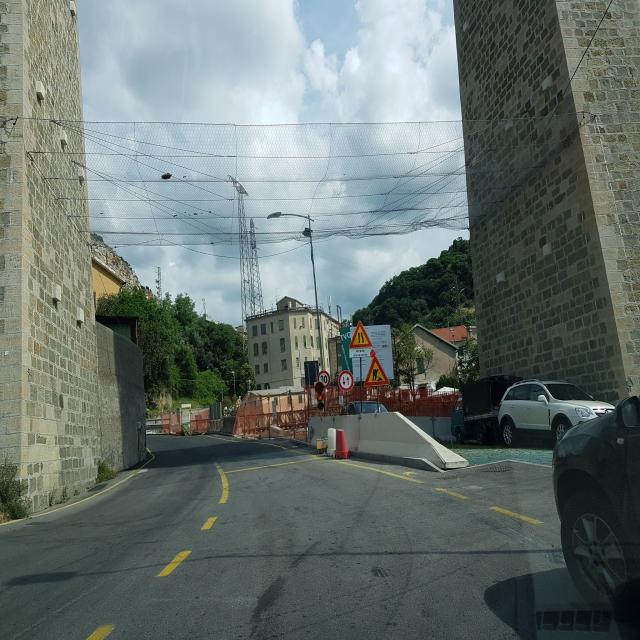car: (552, 362, 640, 606), (450, 374, 565, 446), (497, 377, 616, 446), (449, 372, 528, 446), (345, 400, 389, 414)
